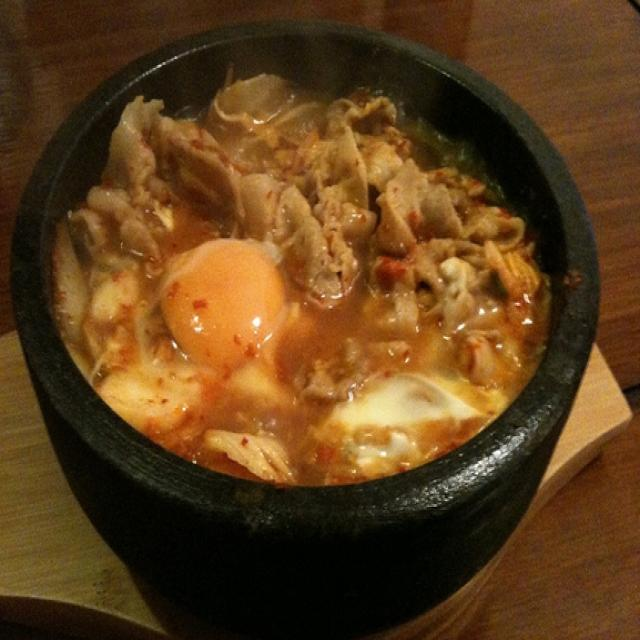汤锅炖物: (13, 26, 619, 615)
